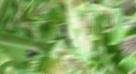Tomato leaf mosaic virus: (47, 0, 107, 62)
